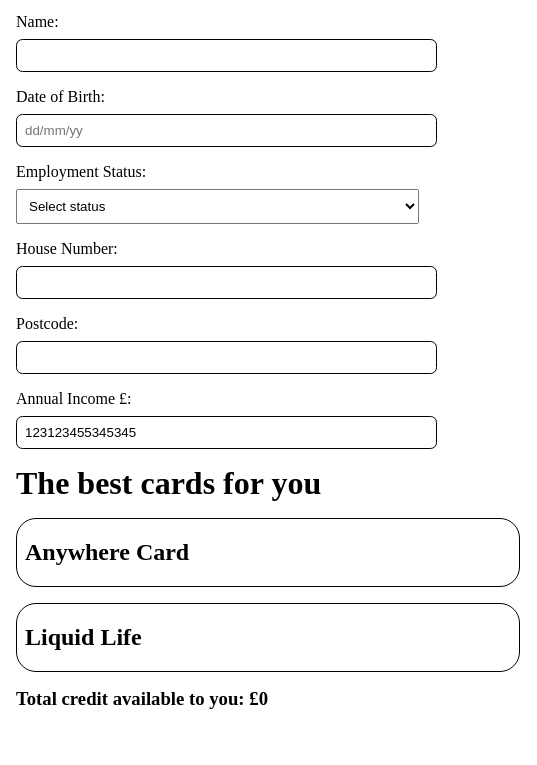
returns total back to £0 after toggling card off
Click the element showing "Liquid Life" at point(268, 637), box [16,603,520,672]
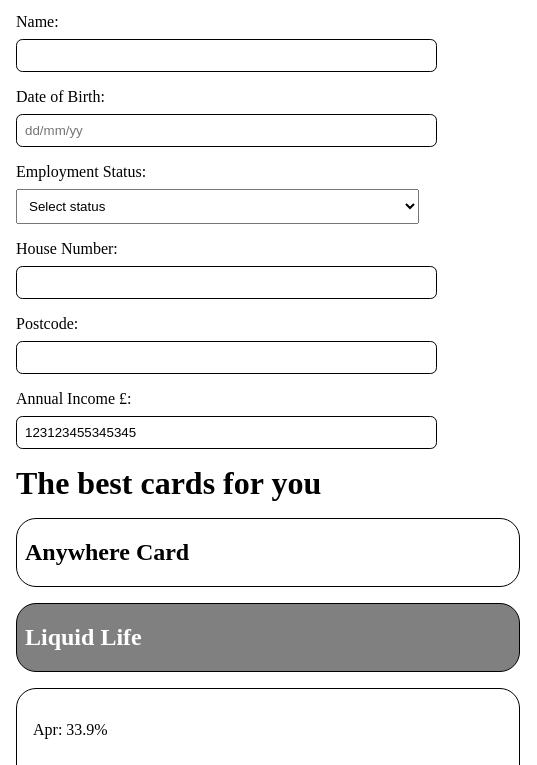
Click the element showing "Liquid Life" at point(268, 637), box [16,603,520,672]
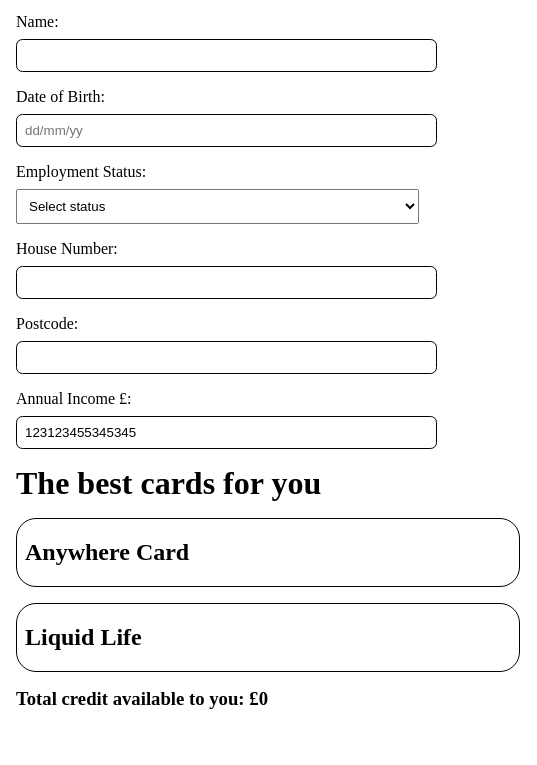
Check: the heading "Total credit available to you: £0" is shown, box [16,688,268,709]
